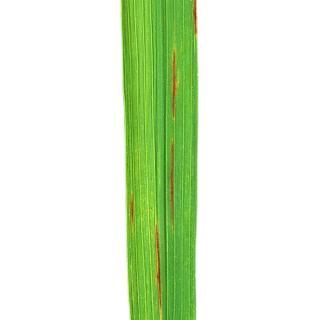Bercak-Cokelat-Sempit: (150, 221, 168, 320), (166, 45, 182, 123), (166, 137, 178, 230), (188, 0, 203, 36), (130, 200, 141, 233)
